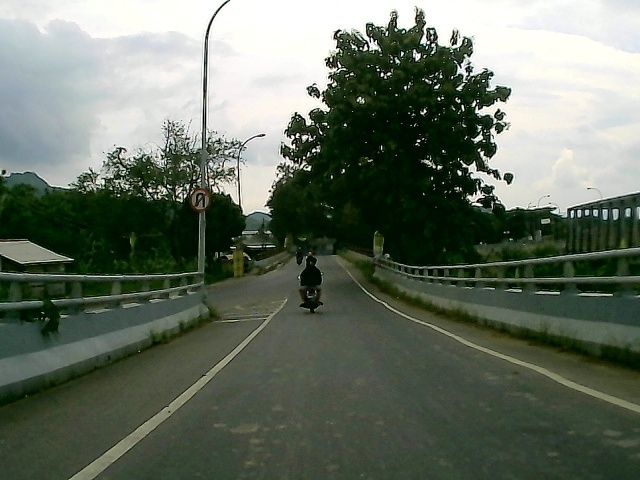Dilarang berbalik arah: (186, 187, 215, 212)
